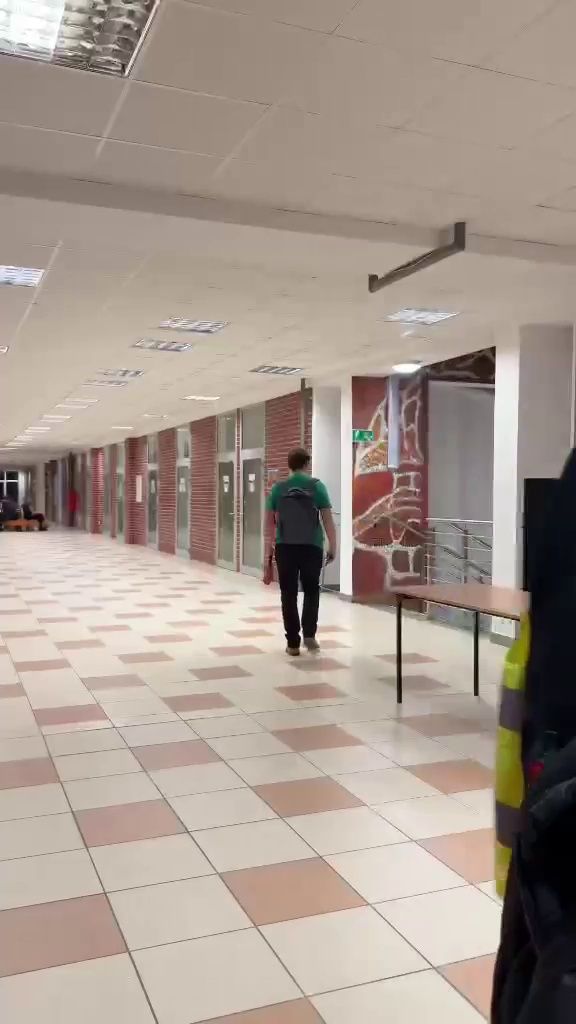no vest: (265, 440, 342, 648)
